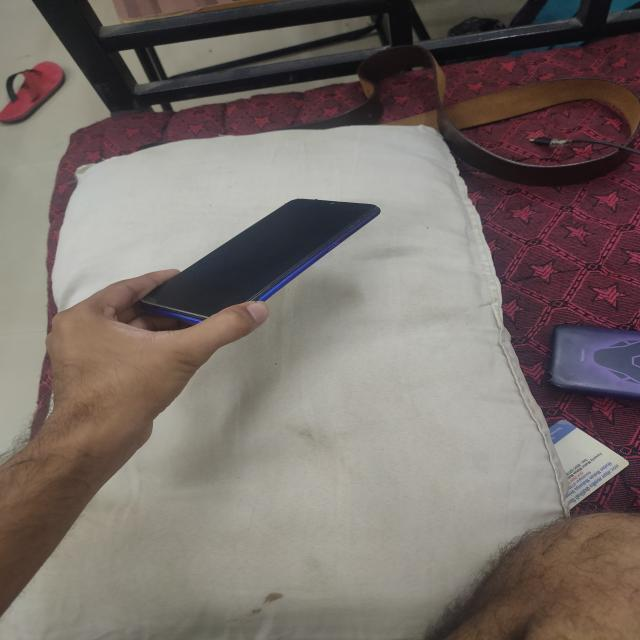Phone: (133, 193, 382, 329), (544, 317, 640, 399)
